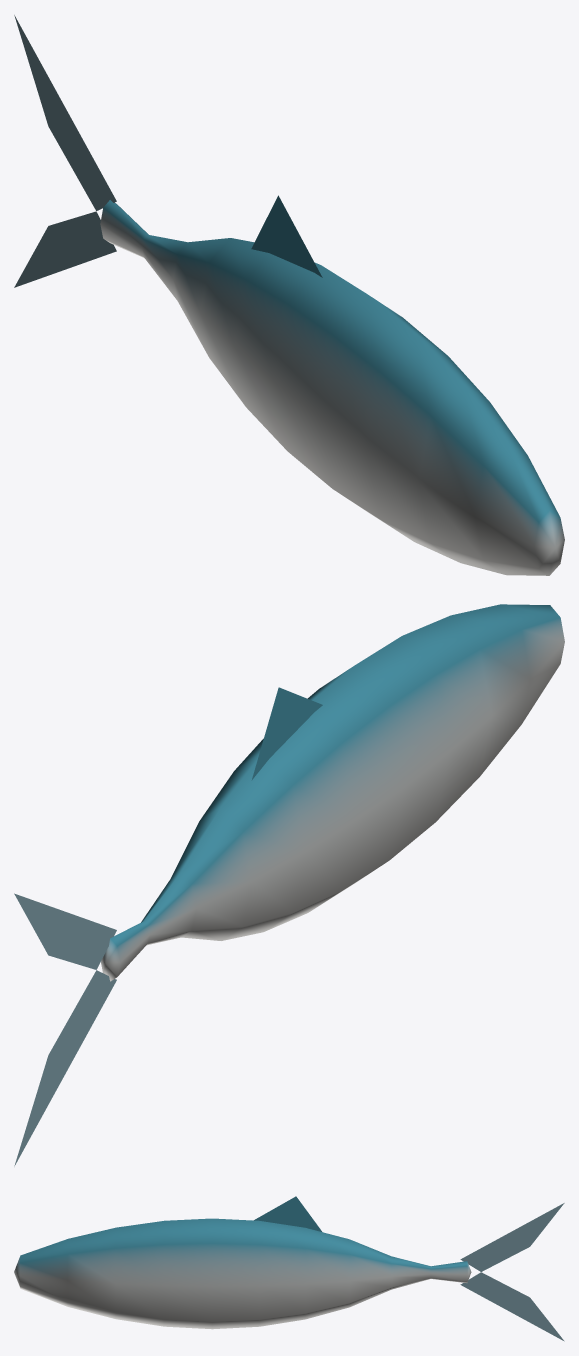
The model's file is shoal_fish.glb.
The picture shows the model from 3 angles, top to bottom: view 1: azimuth 30°, elevation 25°; view 2: azimuth 150°, elevation 25°; view 3: azimuth 270°, elevation 25°; orthographic projection. The views are drawn at different scales.
Visible parts, largest first — view 1: shoal_fish; view 2: shoal_fish; view 3: shoal_fish.
Boxes of the visible parts, box(x1,y1,x2,y2) form: shoal_fish: box(14, 15, 564, 575); shoal_fish: box(14, 604, 564, 1166); shoal_fish: box(14, 1196, 564, 1341).
Bounding box in the file's own units: 0.0168 × 0.046 × 0.1578.
